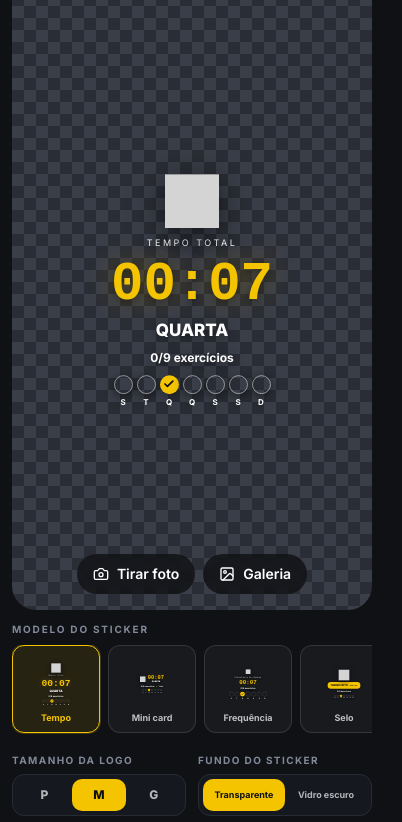
Test case: WorkoutStickerEditor › pinch scales within limits
The width and height of the screenshot is (402, 822).
(page scrolled)
Press the mouse on the element with test id "sticker" at (192, 290), box [111,174,273,407]
Press the mouse on the element with test id "sticker" at (192, 290), box [111,174,273,407]
(page scrolled)
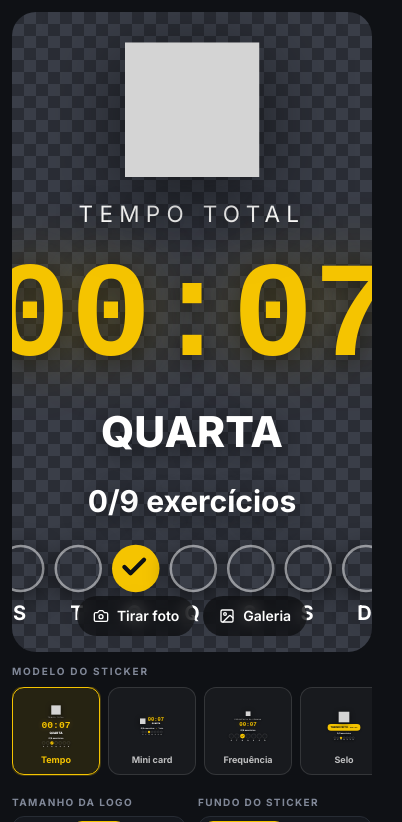
Expected: the element with test id "sticker" has attribute data-scale="2.50"
